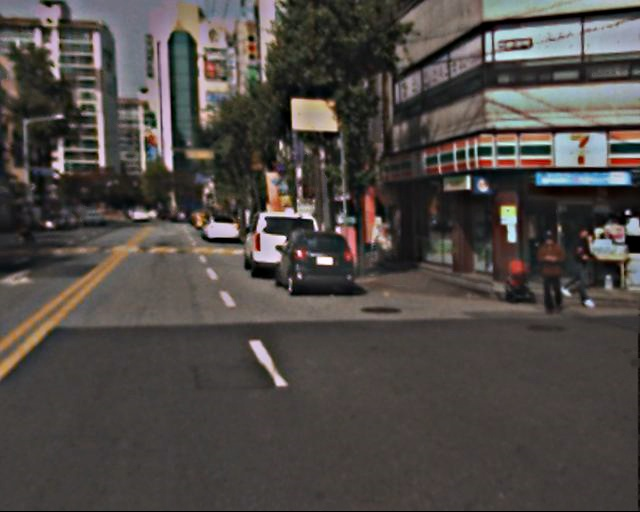person: (533, 230, 576, 317), (566, 225, 604, 312)
